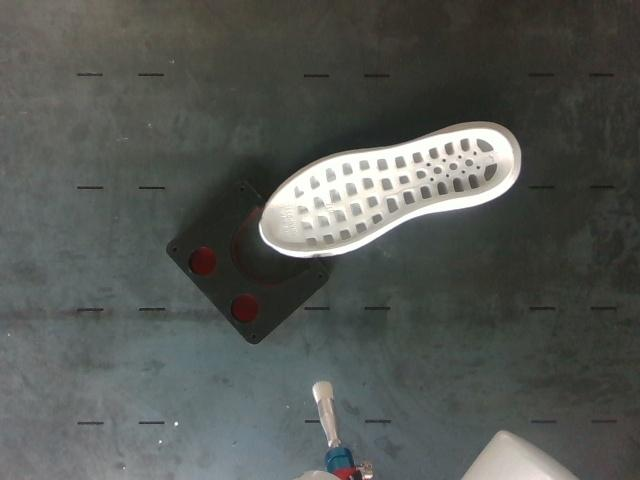shoes: (261, 129, 513, 252)
